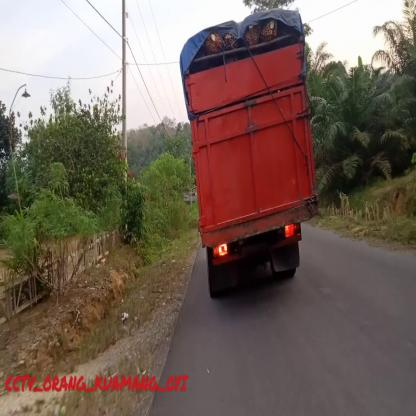truck: (180, 1, 319, 310)
